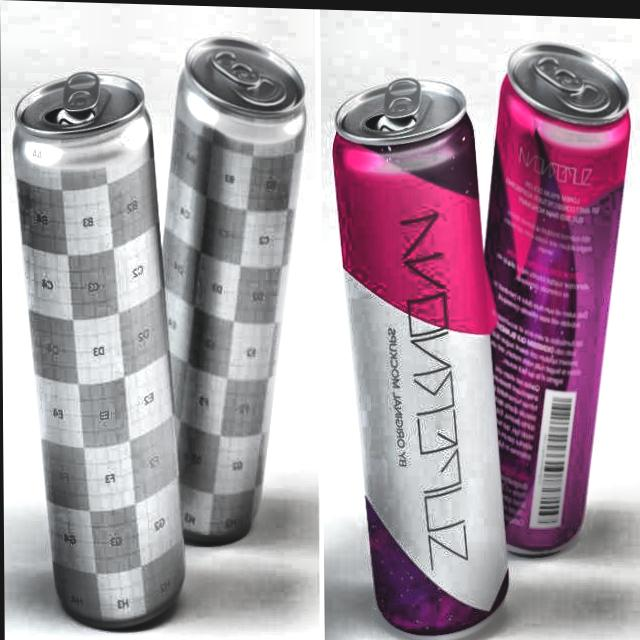can: (6, 65, 199, 639), (326, 66, 517, 640), (467, 23, 635, 561), (144, 22, 315, 548)
